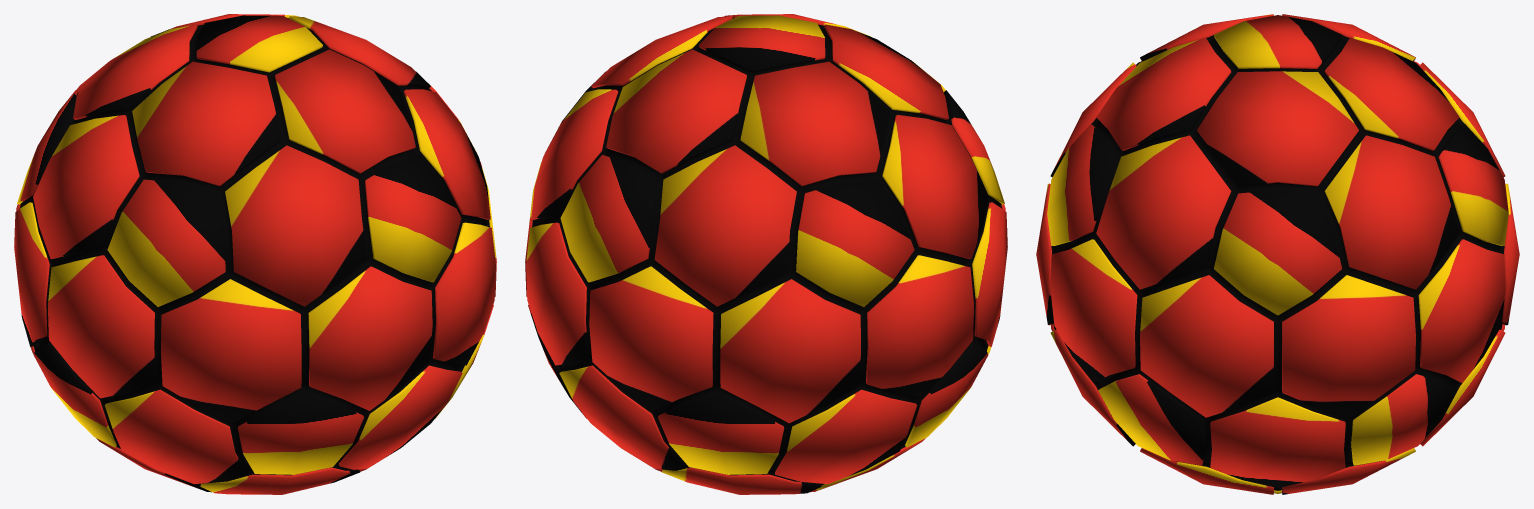
The model's file is pelotaALEMANIA.glb.
The picture shows the model from 3 angles, left to right: view 1: azimuth 30°, elevation 25°; view 2: azimuth 150°, elevation 25°; view 3: azimuth 270°, elevation 25°; orthographic projection.
Parts seen in each view (by area): view 1: Material_001-material; view 2: Material_001-material; view 3: Material_001-material.
Boxes of the visible parts, x1,y1,x2,y2 form: Material_001-material: (14,14,496,494); Material_001-material: (525,14,1007,494); Material_001-material: (1036,14,1519,494).
Bounding box in the file's own units: 0.011 × 0.0112 × 0.0111.
Materials: 1 (1 with a texture image).
